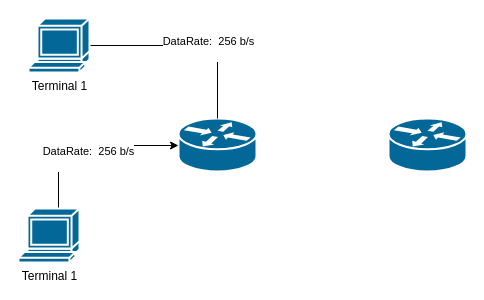
Image size: 484x300. Some labels were removed from this diagram. Here are the shapes that lost their labels. From the top down, the centre of each, then its label:
At point (217, 144): "Controller 1".
At point (427, 144): "Controller 2".
